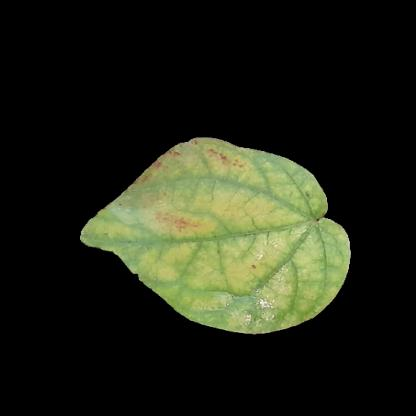curl_stage1: (152, 172, 296, 313), (179, 144, 263, 196), (292, 227, 328, 294), (109, 203, 151, 253)
